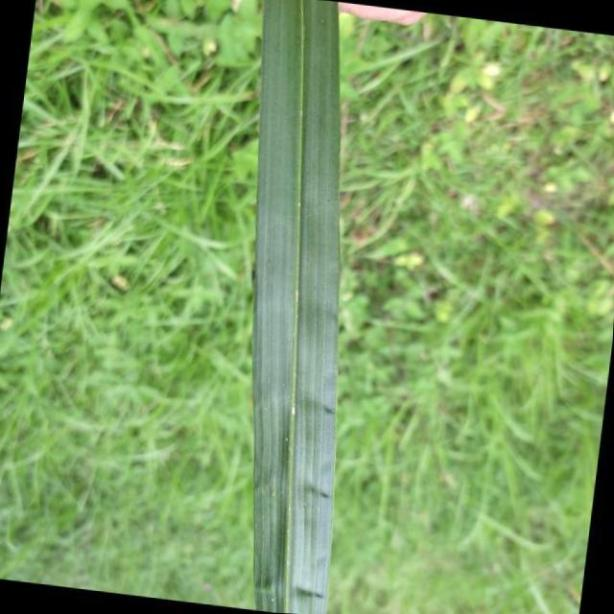Boron: (251, 0, 339, 614)
